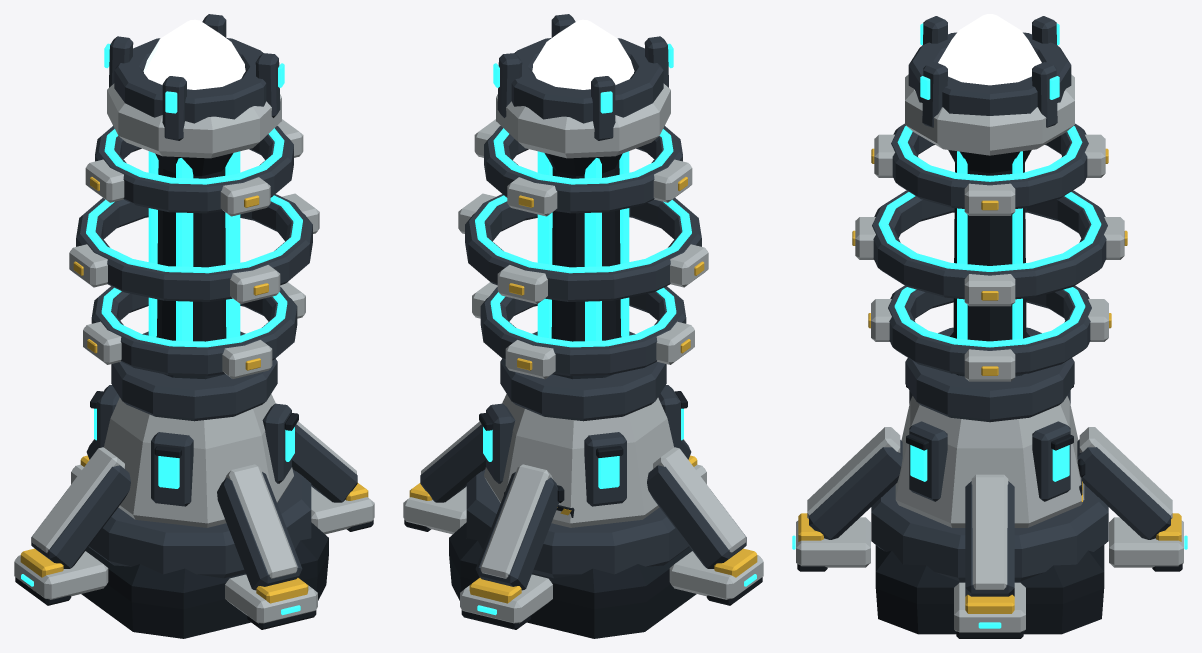
The model's file is deployable_shield_gen.glb.
3 views of the same model, side by side, from view 1: azimuth 30°, elevation 25°; view 2: azimuth 150°, elevation 25°; view 3: azimuth 270°, elevation 25° (orthographic).
Parts seen in each view (by area): view 1: EmitterTower Mesh, Foundation and chassis; view 2: EmitterTower Mesh, Foundation and chassis; view 3: EmitterTower Mesh, Foundation and chassis.
Part boxes in pixels (box(x1,y1,x2,y2)): EmitterTower Mesh: box(69, 14, 319, 421); Foundation and chassis: box(14, 385, 374, 638); EmitterTower Mesh: box(458, 14, 708, 421); Foundation and chassis: box(403, 385, 763, 638); EmitterTower Mesh: box(852, 14, 1127, 422); Foundation and chassis: box(792, 385, 1187, 638).
Size of the model in its own units: 2.4 by 3.85 by 2.4.
